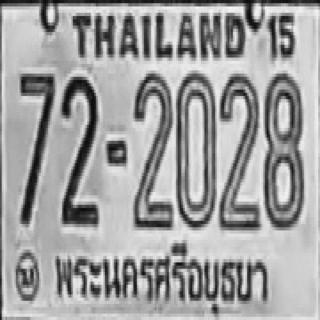N00: (174, 70, 215, 227)
N02: (218, 72, 259, 229), (132, 72, 172, 226), (61, 74, 96, 224)
N07: (18, 70, 53, 224)
N08: (262, 70, 303, 227)
P03: (49, 236, 272, 317)
